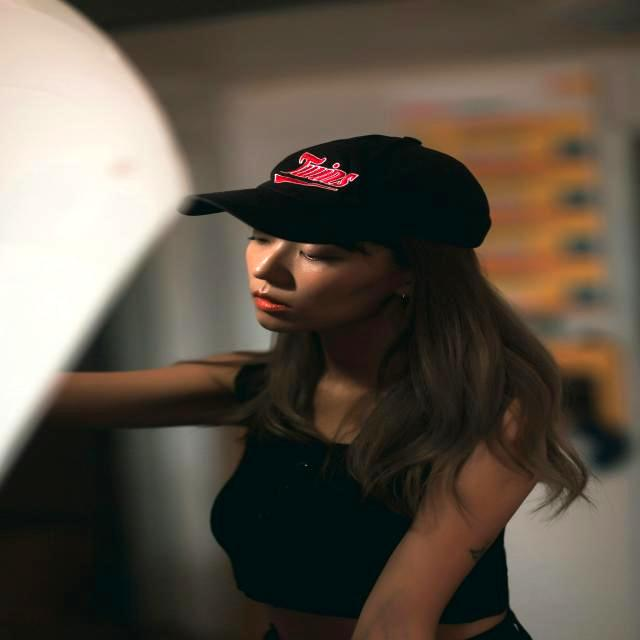no_hard_hat: (181, 135, 491, 249)
person: (44, 135, 590, 640)
